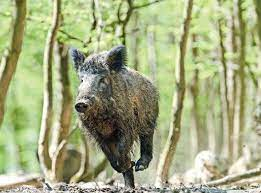boar: (67, 46, 159, 189)
